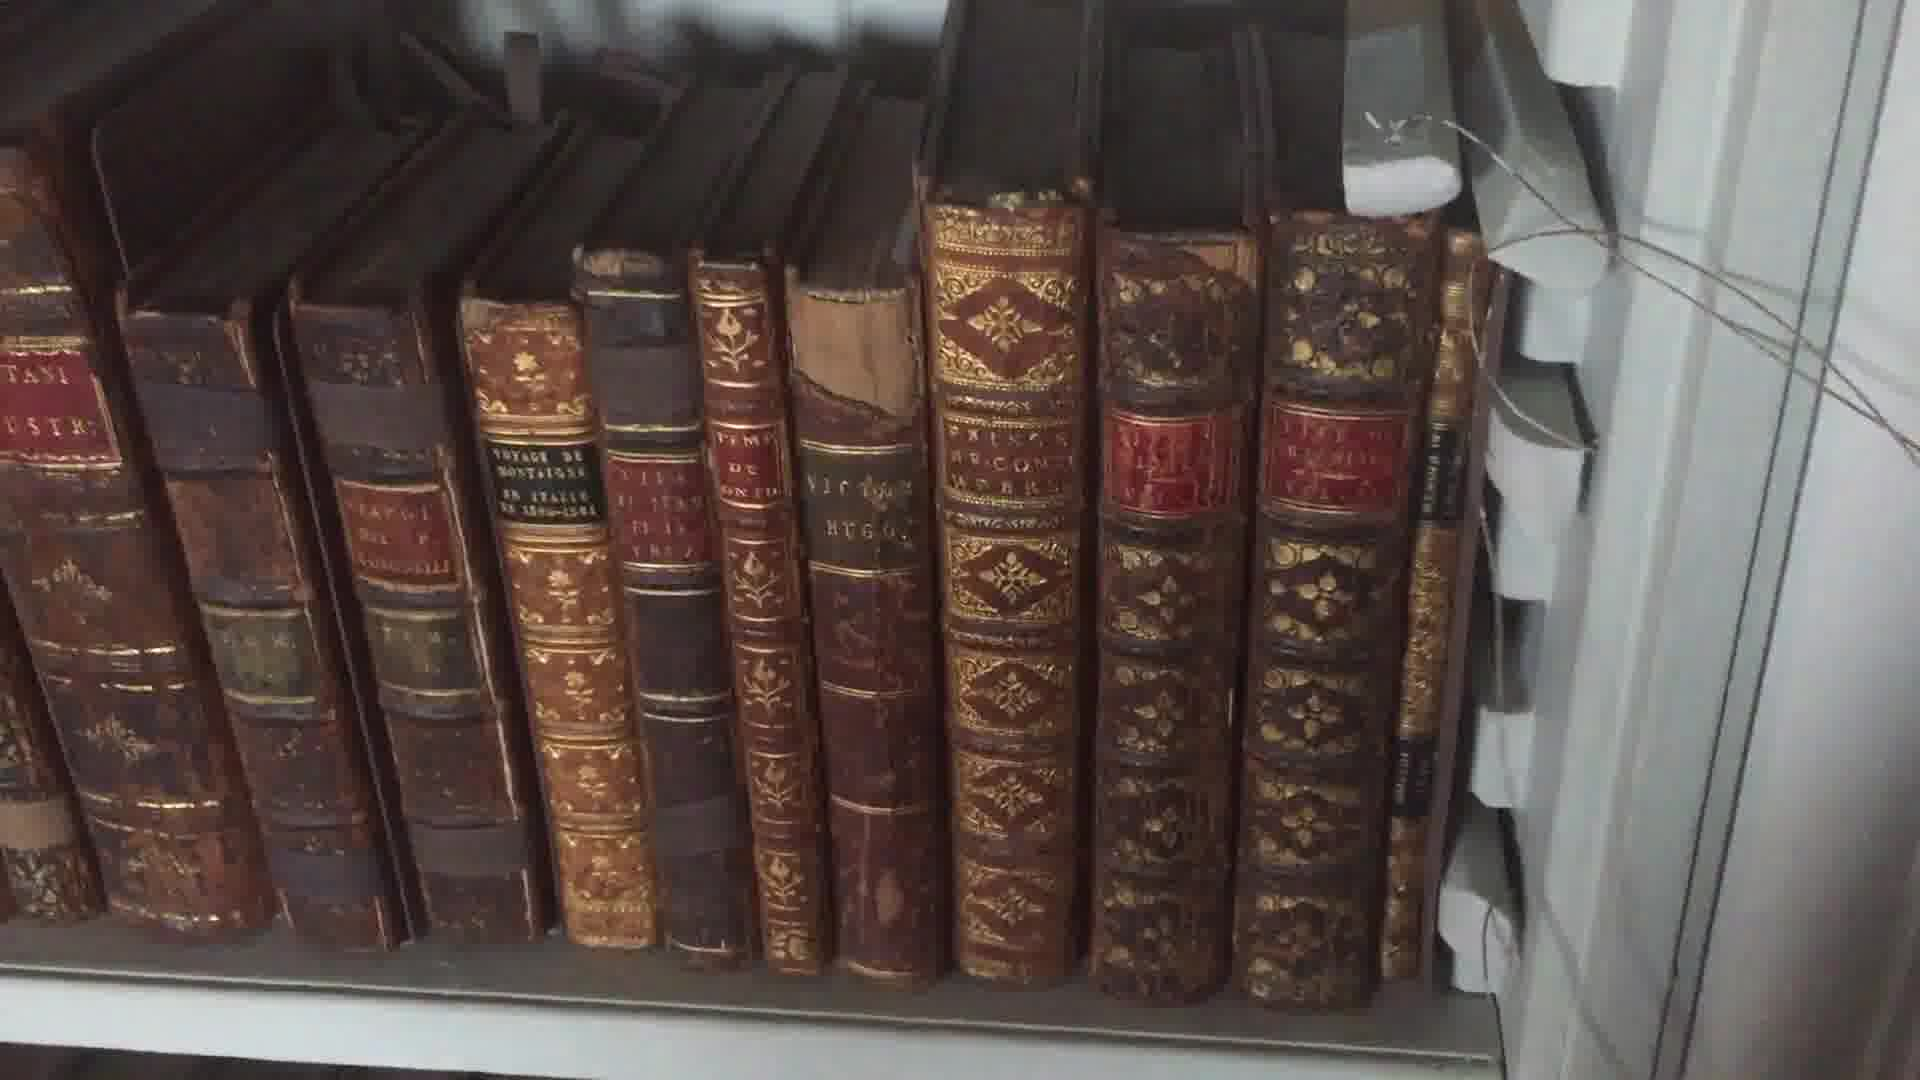Aa6-39_40: (107, 291, 549, 956)
Aa6-41: (451, 278, 655, 968)
Aa6-42: (563, 273, 767, 968)
Aa6-43: (684, 256, 833, 982)
Aa6-44: (775, 253, 948, 992)
Aa6-45: (914, 185, 1092, 997)
Aa6-46-47: (1097, 214, 1393, 1014)
Aa6-48: (1395, 229, 1505, 1014)
